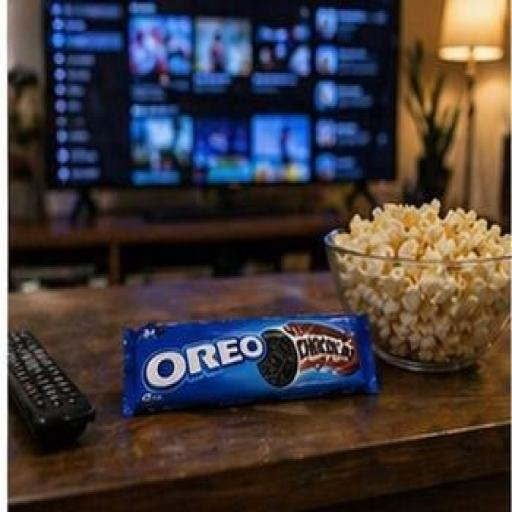oreo: (83, 234, 408, 447)
